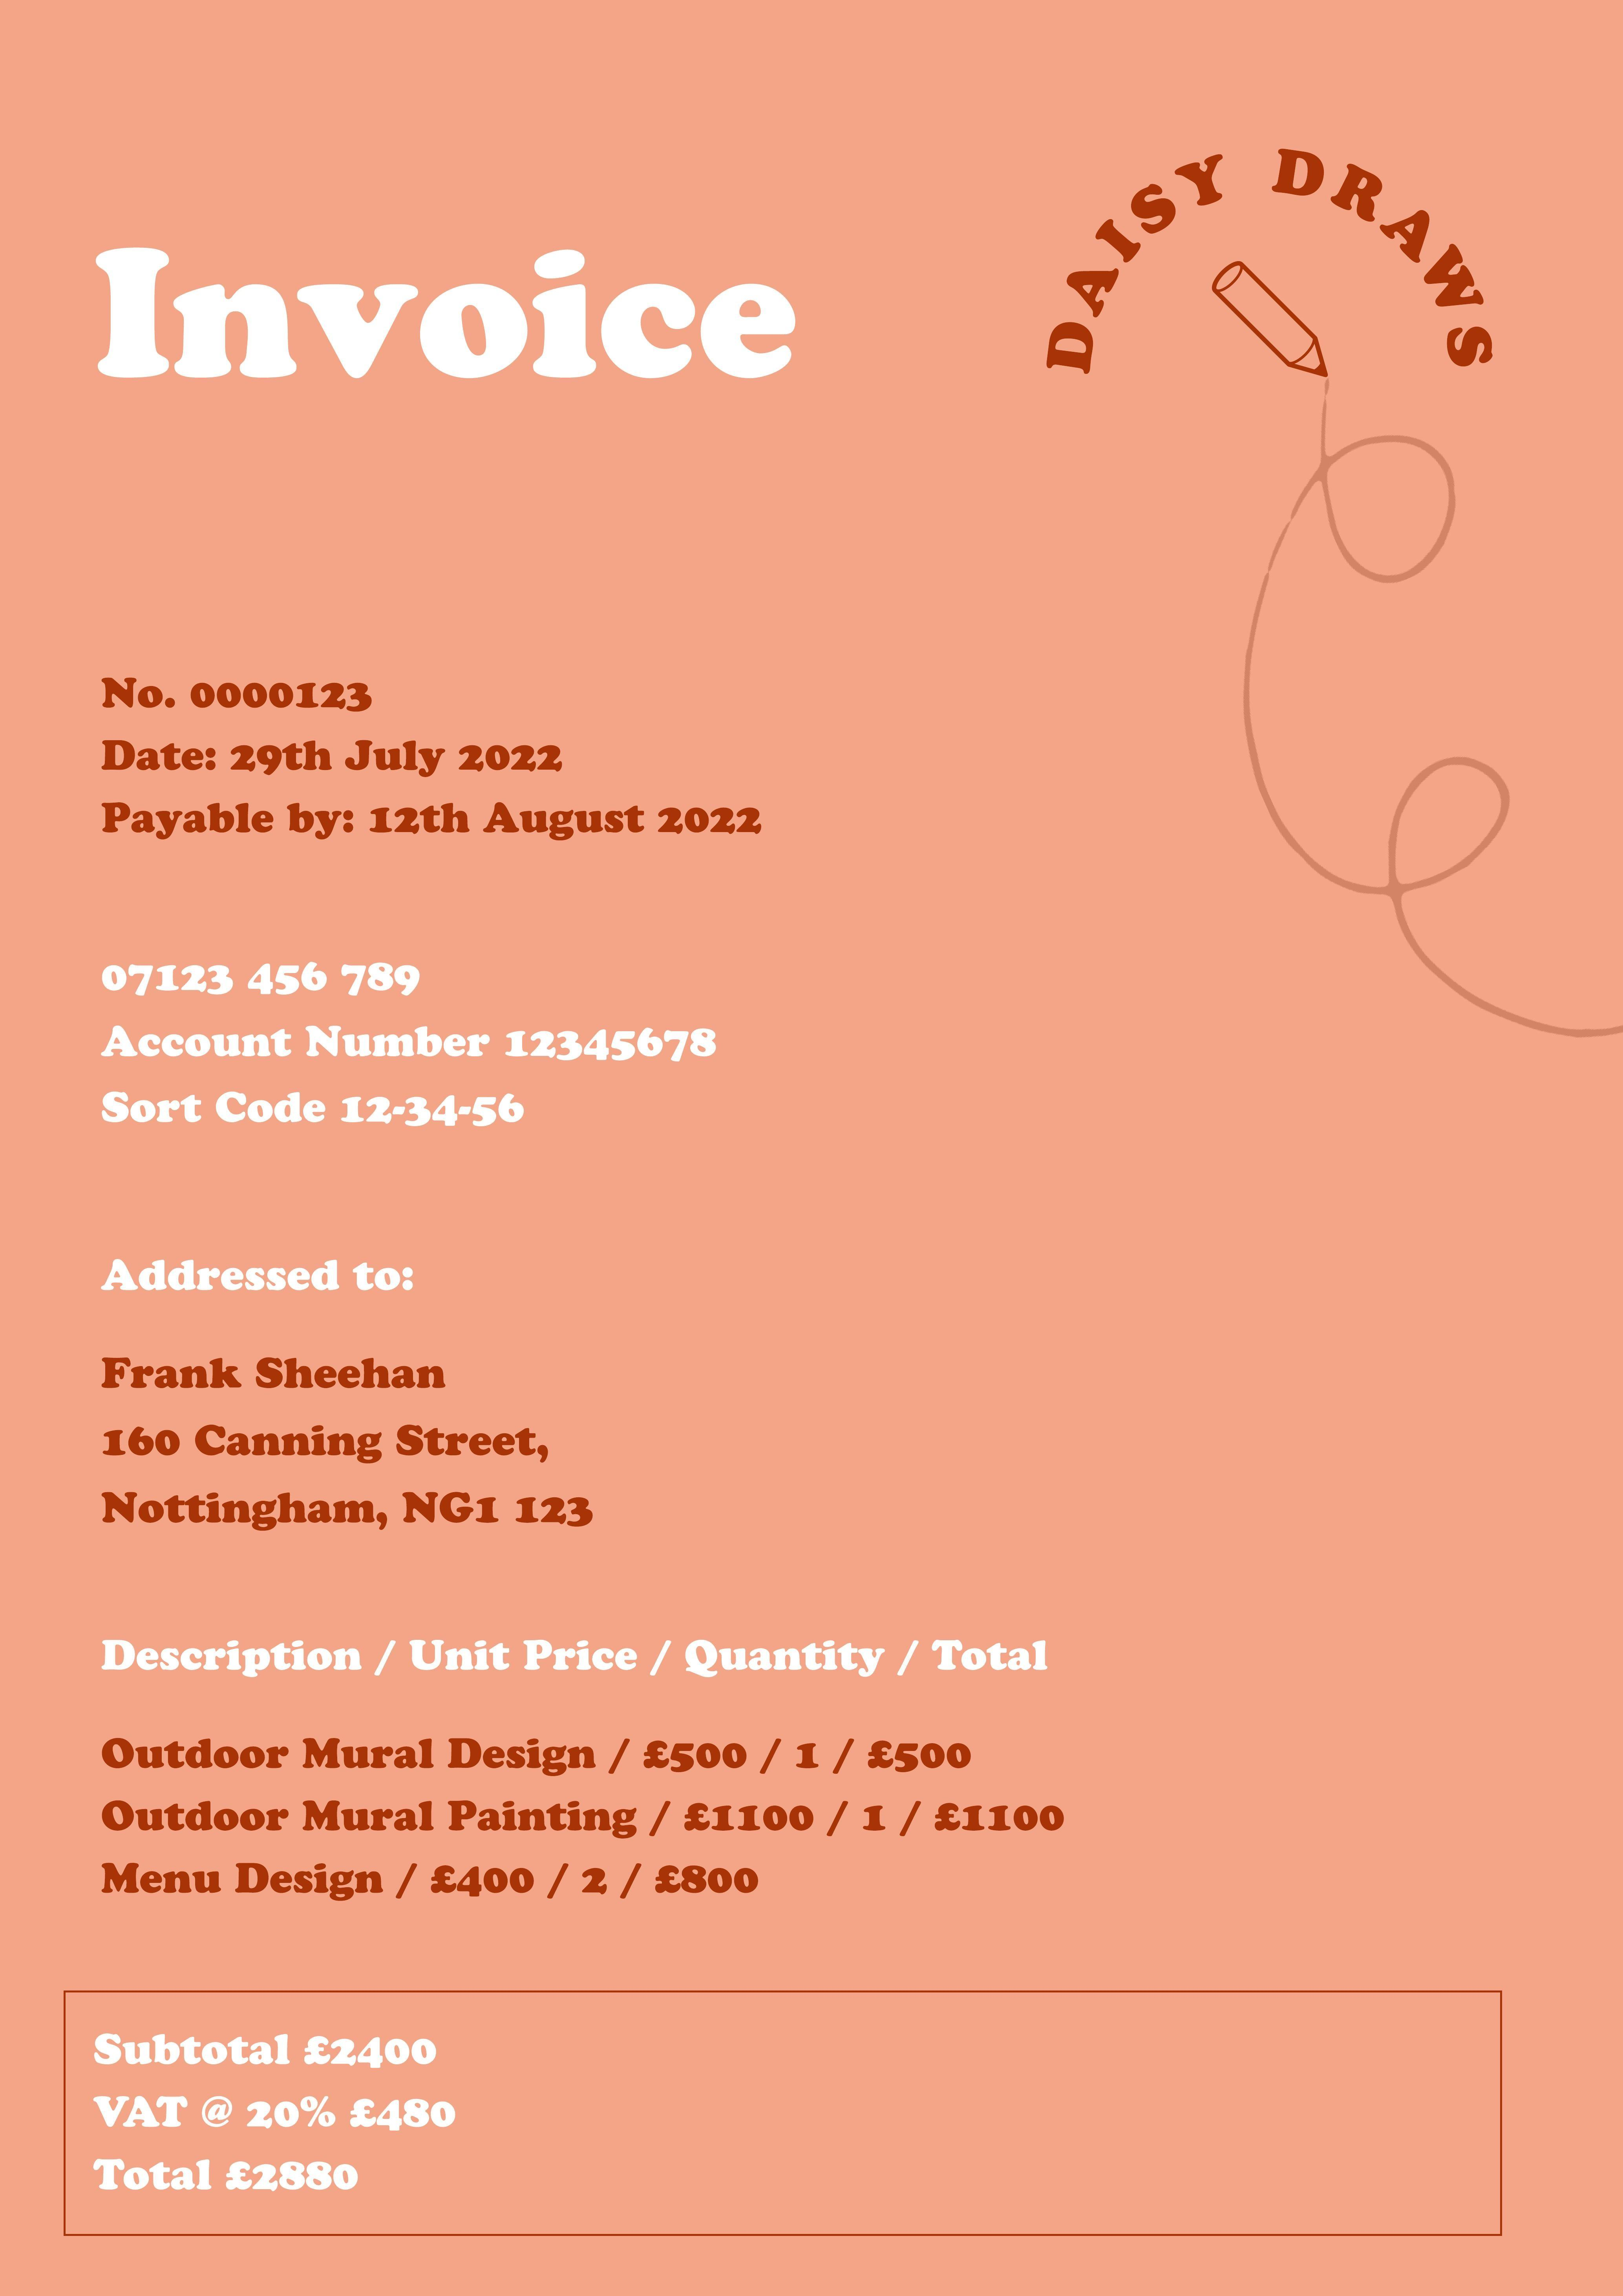ROI: (79, 1614, 1139, 1912), (974, 106, 1566, 428), (79, 652, 777, 880), (59, 1257, 628, 1535), (82, 923, 738, 1143), (82, 1995, 518, 2207)
